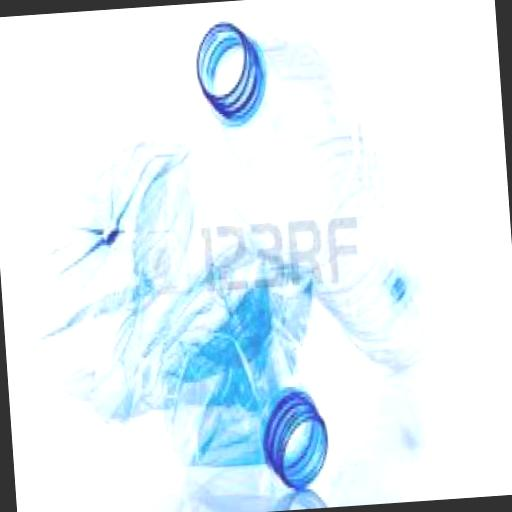plastic: (22, 127, 331, 510), (190, 4, 452, 387)
